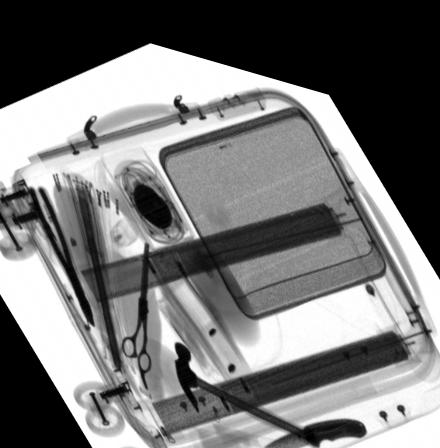Hammer: (172, 331, 319, 432)
Knife: (260, 395, 366, 435)
Pliers: (26, 182, 94, 322)
Scissors: (118, 230, 151, 383)
